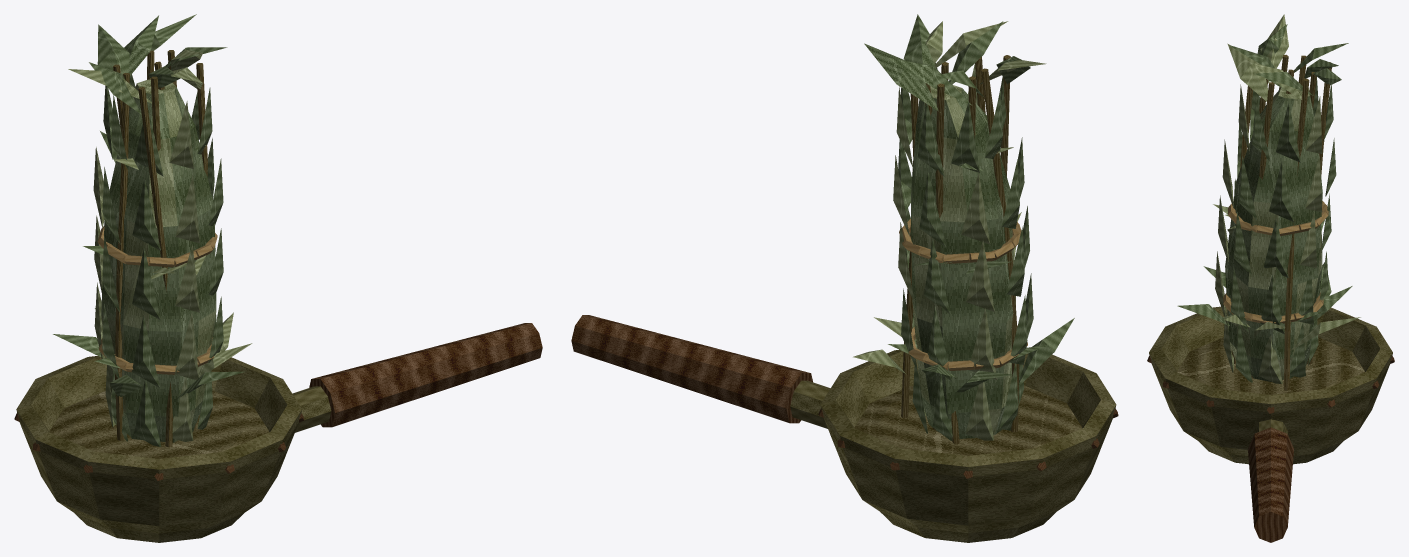
The model's file is blender_incense_3.glb.
3 views of the same model, side by side, from view 1: azimuth 30°, elevation 25°; view 2: azimuth 150°, elevation 25°; view 3: azimuth 270°, elevation 25° (orthographic). The views are drawn at different scales.
Visible parts, largest first — view 1: blender_incense_3; view 2: blender_incense_3; view 3: blender_incense_3.
Boxes of the visible parts, x1,y1,x2,y2 form: blender_incense_3: (14, 14, 542, 542); blender_incense_3: (571, 14, 1118, 542); blender_incense_3: (1147, 14, 1394, 542).
Size of the model in its own units: 0.2343 by 0.203 by 0.1177.
Materials: 7 (7 with a texture image).
